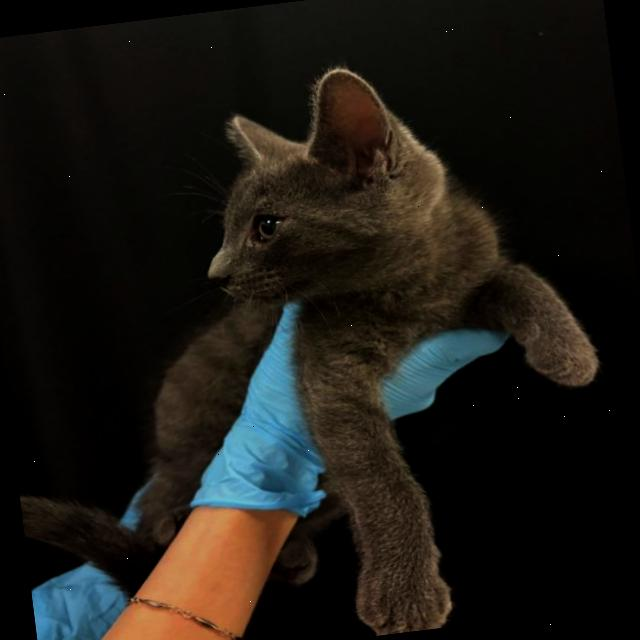russian_blue_cat: (172, 49, 461, 330)
